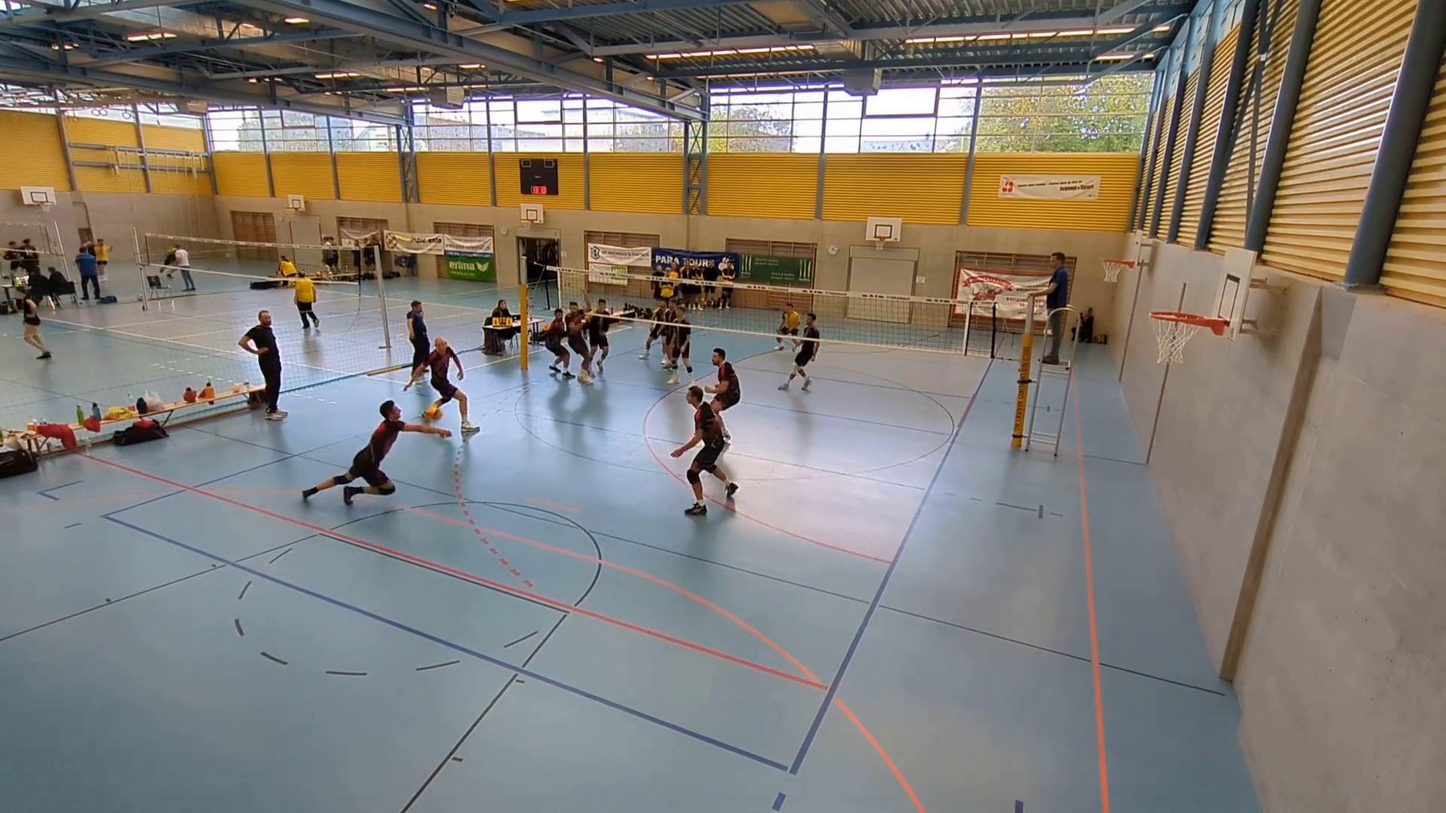difesa: (297, 398, 456, 506)
